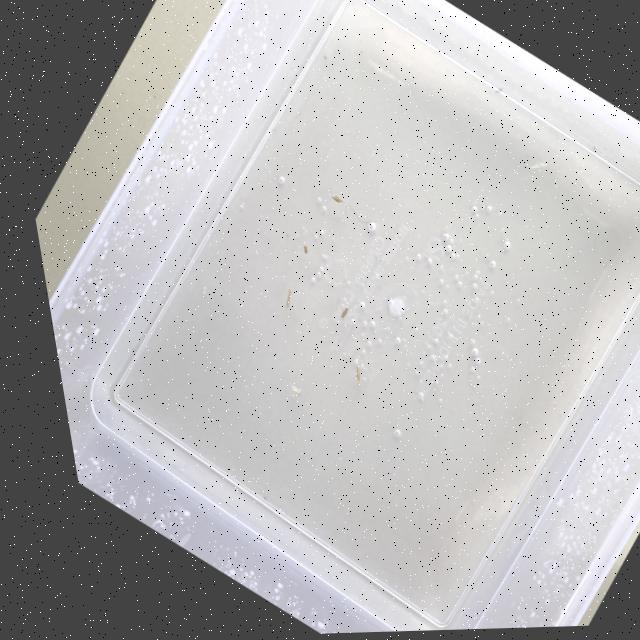Wereng: (271, 284, 303, 313), (341, 360, 369, 386), (330, 299, 357, 325), (282, 378, 307, 400), (293, 239, 316, 260), (325, 190, 348, 209)
